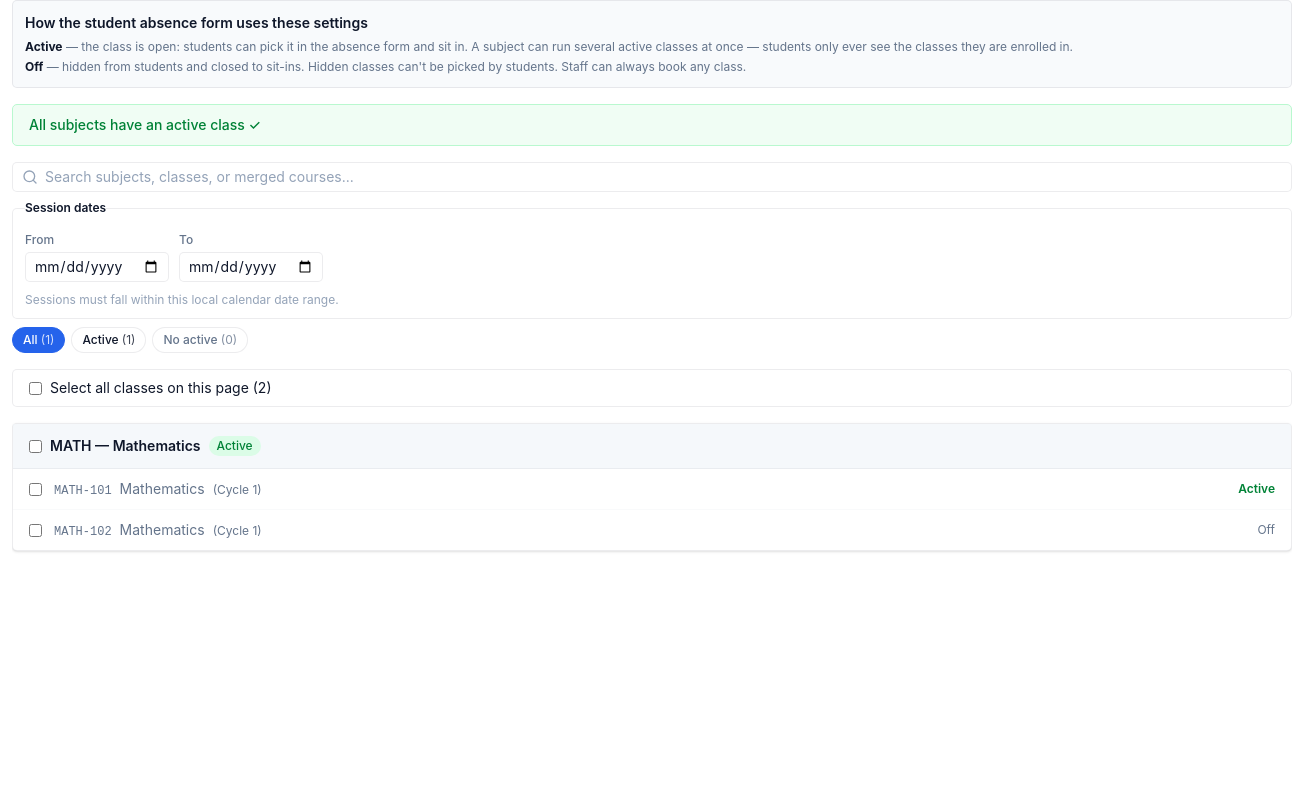
Test: ActiveCoursesSection — one Active switch per class › bulk turns off the selection through the bulk endpoint and refetches
Expected: the text "MATH — Mathematics" is shown, [50,436,200,456]
Click the checkbox labelled "Select all classes on this page". click: [36, 388]
box: [29,382,42,394]
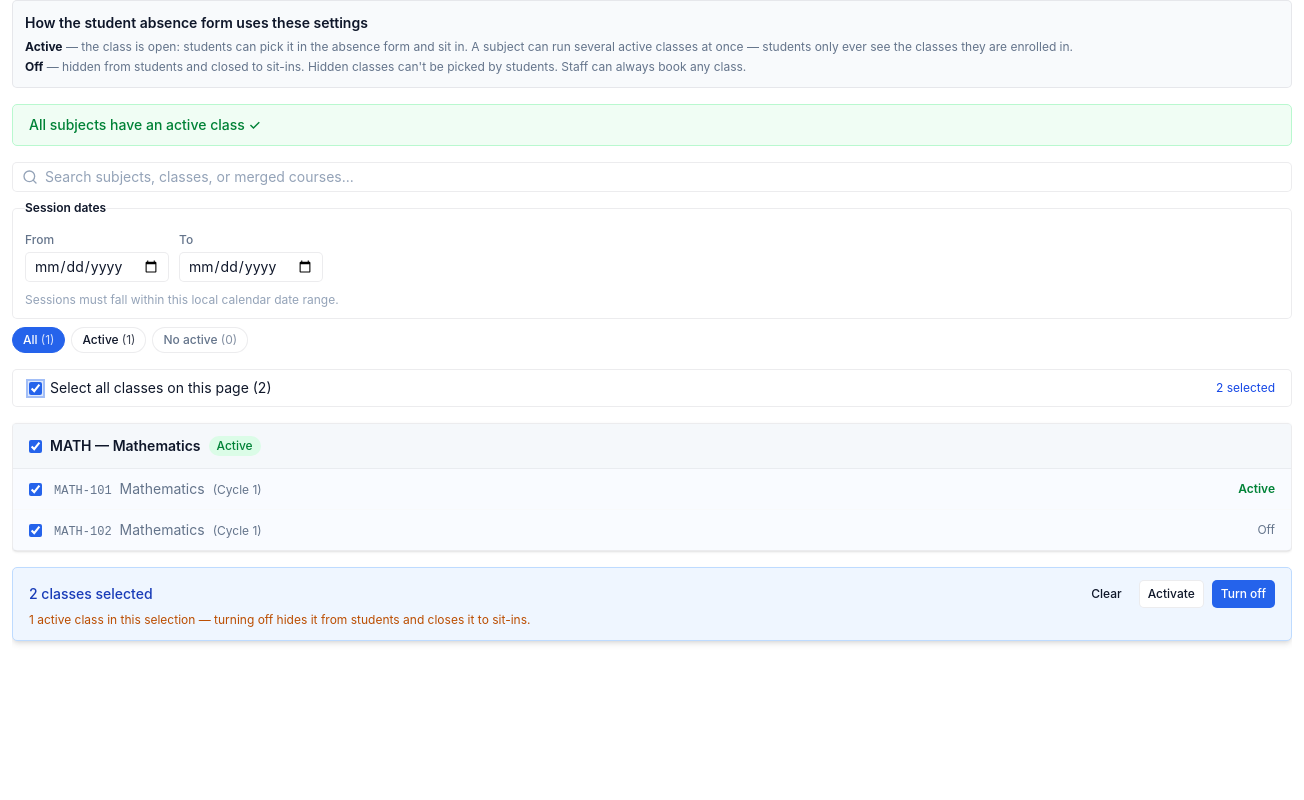
Expected: the checkbox named "Select MATH-101" is checked, [29,482,42,496]
Expected: the text "2 classes selected" is shown, [29,584,153,604]
Expected: the text "1 active class in this selection" is shown, [29,612,530,627]
Click the button "Turn off". click: [1243, 594]
box: [1212,580,1275,608]
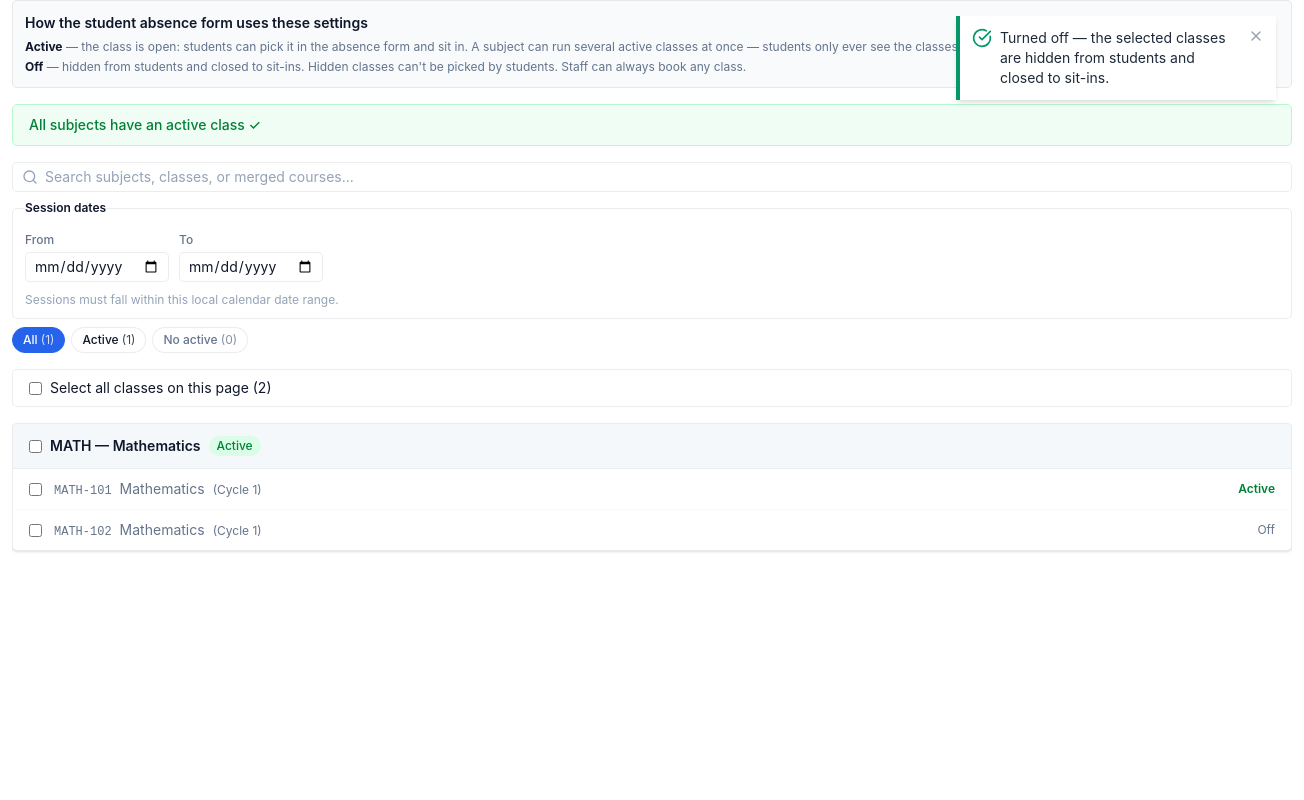
Expected: the checkbox named "Select MATH-101" is not checked, [29,482,42,496]
Expected: the text "2 classes selected" is gone
